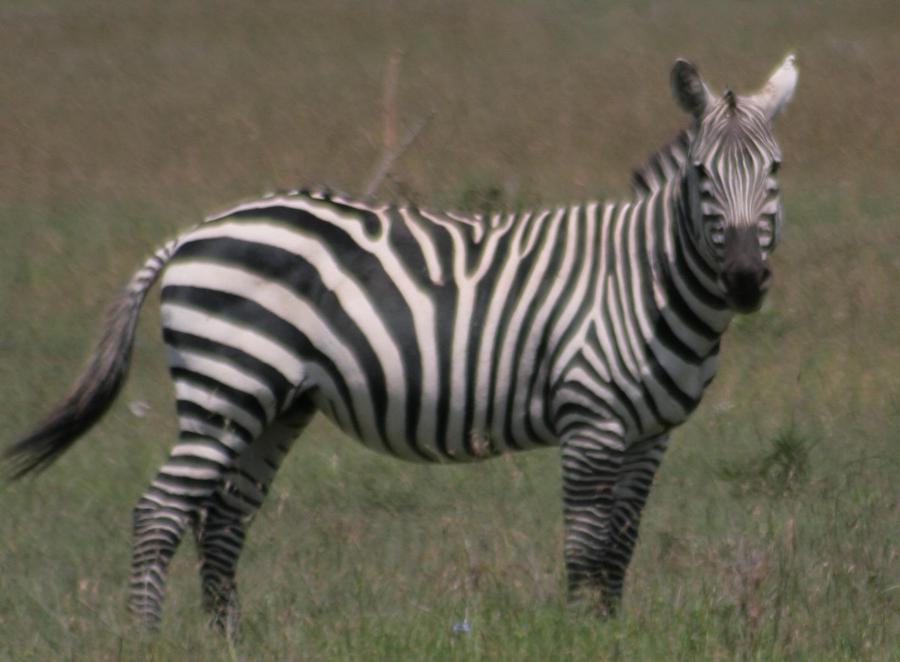zebra_plains: (130, 158, 702, 451)
